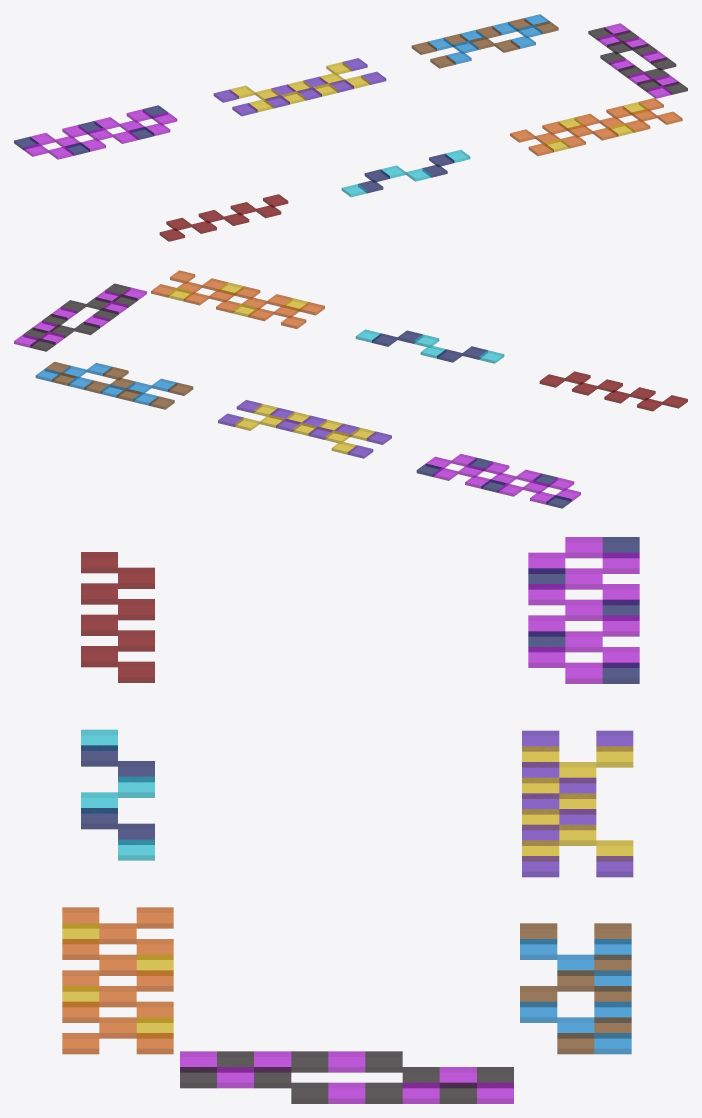
File: pattern maze_scrapyard.glb
3 renders of one model, top to bottom at view 1: azimuth 30°, elevation 25°; view 2: azimuth 150°, elevation 25°; view 3: azimuth 270°, elevation 25°, orthographic. The views are drawn at different scales.
Parts seen in each view (by area): view 1: no part large enough to name; view 2: no part large enough to name; view 3: Cube.019_Passable.029, Cube.019_Passable.028, Cube.019_Passable.026, Cube.019_Passable.030, Cube.019_Passable.033, Cube.019_Passable.045, Cube.019_Passable.044, Cube.019_Passable.035, Cube.019_Passable.034, Cube.019_Passable.071, Cube.019_Passable.057, Cube.019_Passable.079 (+6 smaller).
Part boxes in pixels (bbox=[...]): Cube.019_Passable.029: bbox=[99, 923, 136, 944]; Cube.019_Passable.028: bbox=[99, 954, 136, 975]; Cube.019_Passable.026: bbox=[99, 1017, 136, 1038]; Cube.019_Passable.030: bbox=[136, 907, 173, 928]; Cube.019_Passable.033: bbox=[99, 986, 136, 1007]; Cube.019_Passable.045: bbox=[291, 1051, 328, 1072]; Cube.019_Passable.044: bbox=[365, 1082, 402, 1103]; Cube.019_Passable.035: bbox=[328, 1051, 365, 1072]; Cube.019_Passable.034: bbox=[365, 1051, 402, 1072]; Cube.019_Passable.071: bbox=[557, 970, 594, 991]; Cube.019_Passable.057: bbox=[594, 1033, 631, 1054]; Cube.019_Passable.079: bbox=[596, 746, 633, 767].
Size of what is drawn, in the model's own units: 215 by 1 by 93.32.
Materials: 1 (1 with a texture image).
